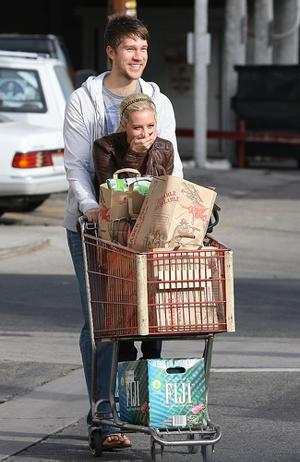person: (62, 8, 186, 452)
